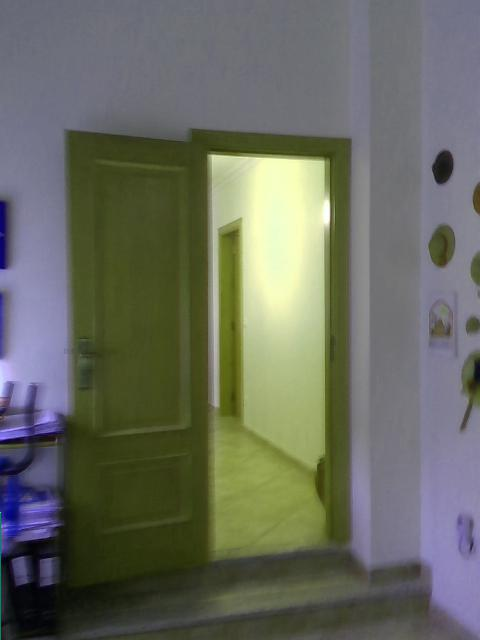open_door: (183, 126, 352, 566)
